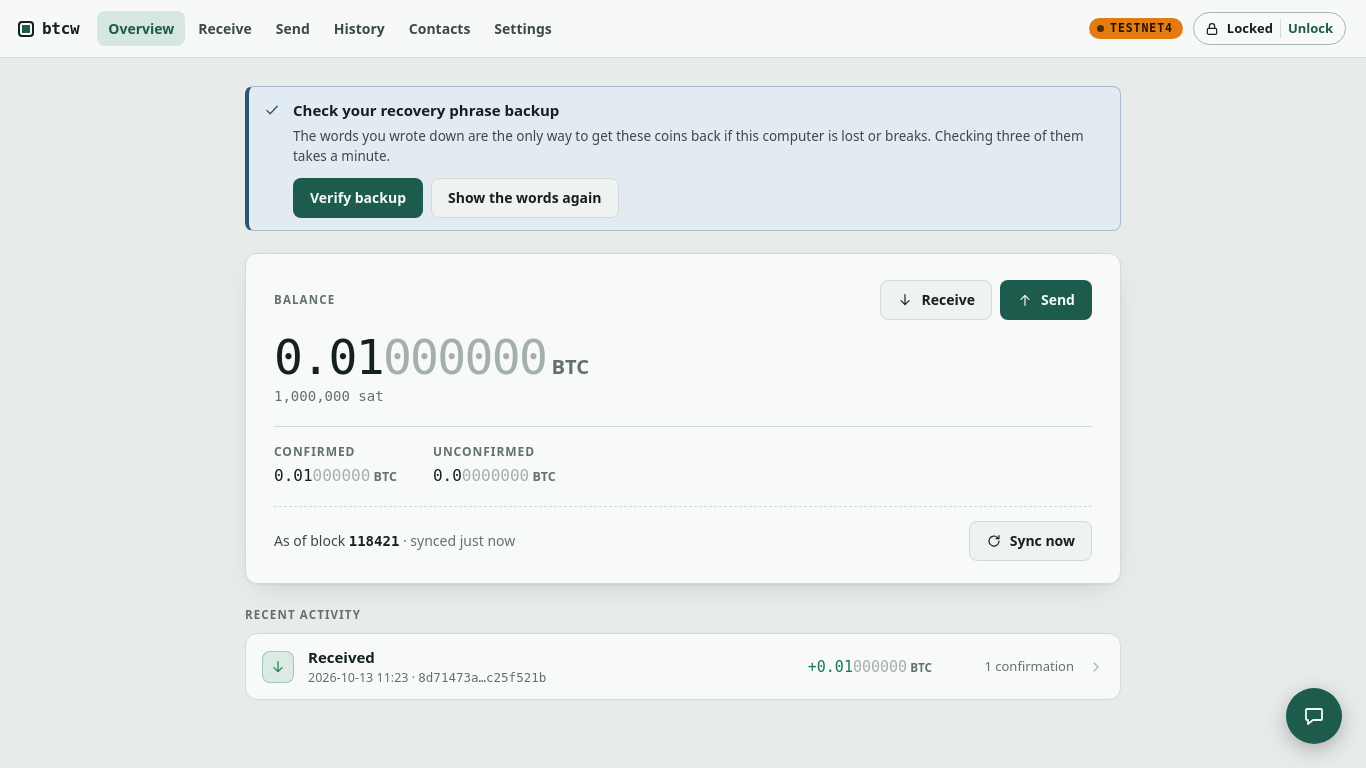
Test case: unlock › closes on Escape without unlocking
Expected: the heading "Balance" is shown, [274,291,335,309]
Expected: the text "As of block 118421 · synced just now" is shown, [274,530,515,552]
Click the button "Locked Unlock".
click(1269, 29)  # box [1193,12,1346,45]
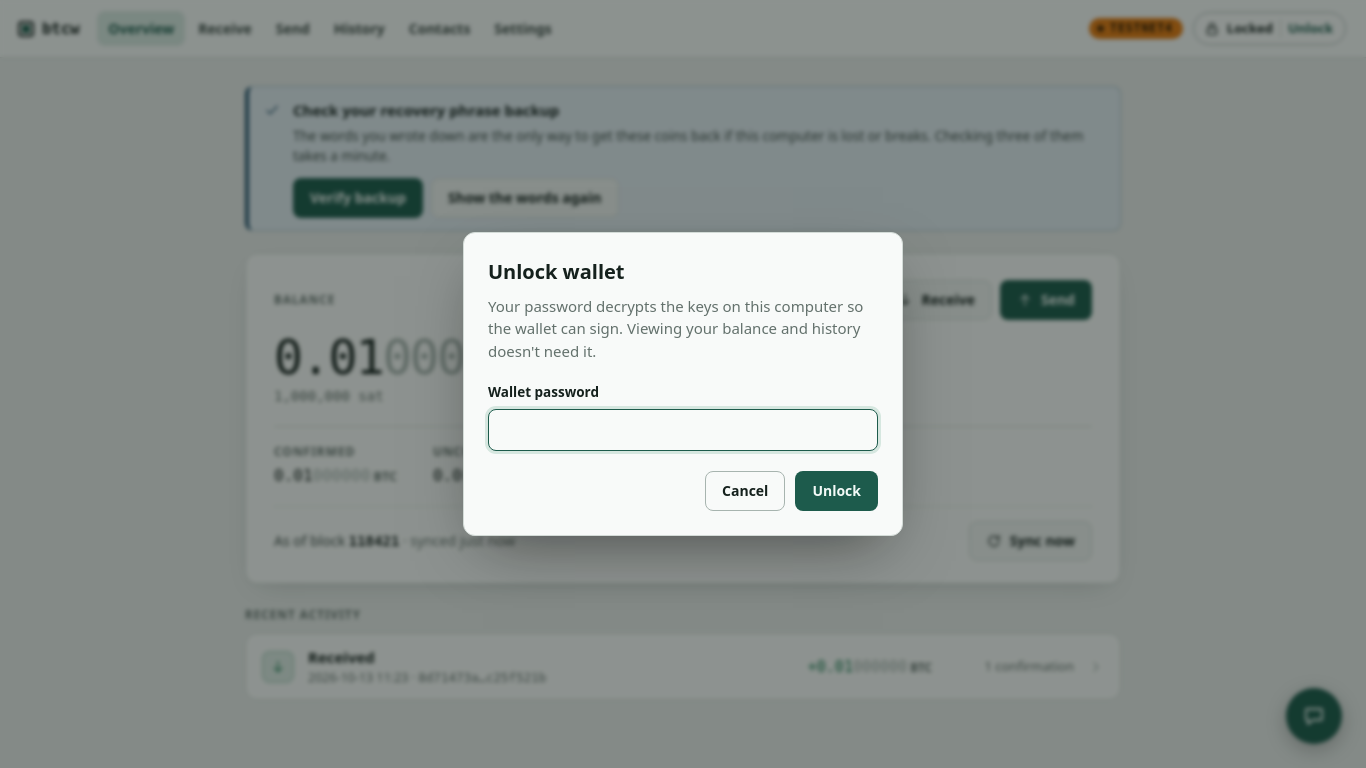
Expected: the dialog is shown, [463,232,903,536]
Press Escape
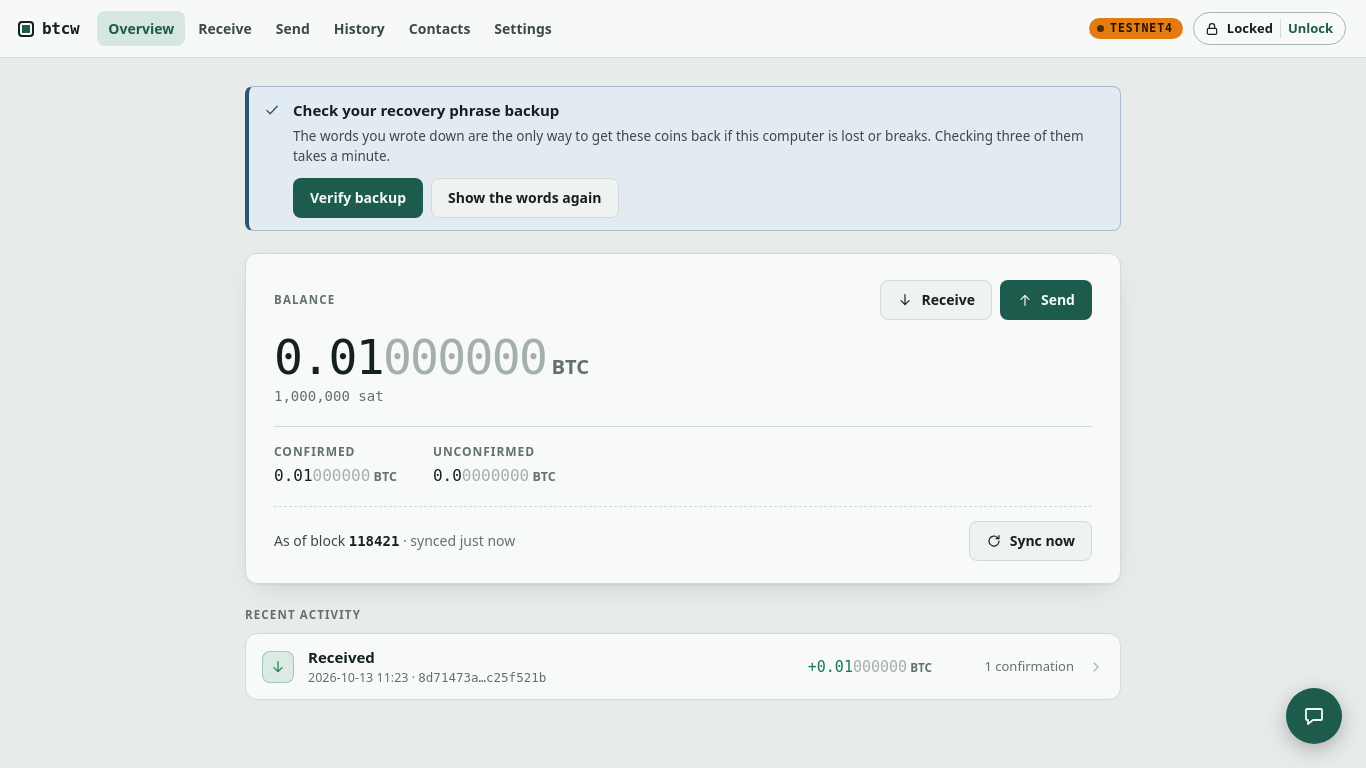
Expected: the button "Locked Unlock" is shown, [1193,12,1346,45]
Expected: the dialog is gone
